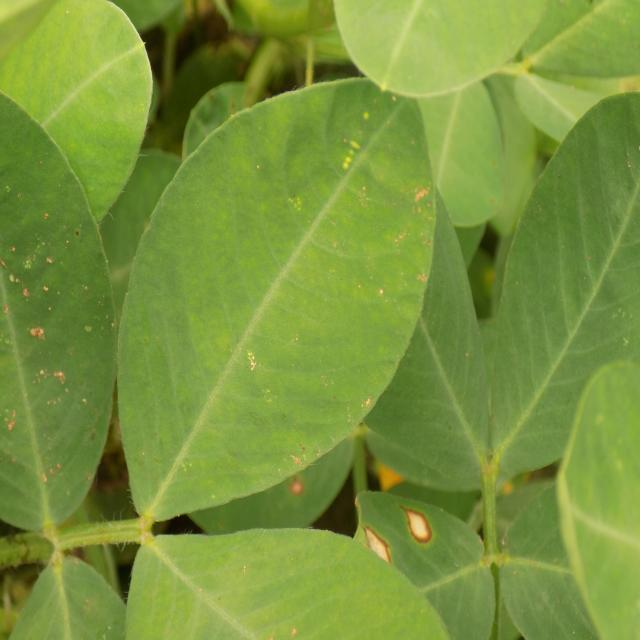Ground nut_healthy: (120, 75, 432, 523), (325, 116, 496, 496)
